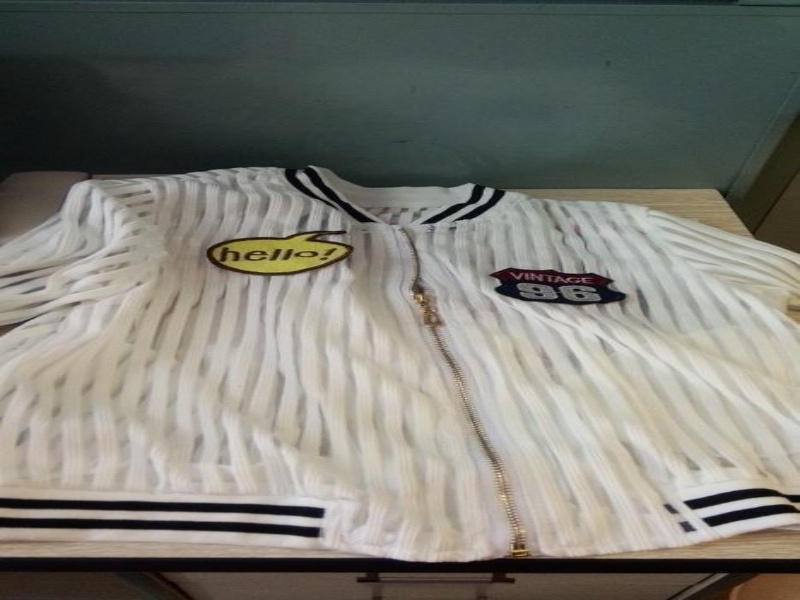long_sleeved_shirt: (2, 160, 795, 570)
